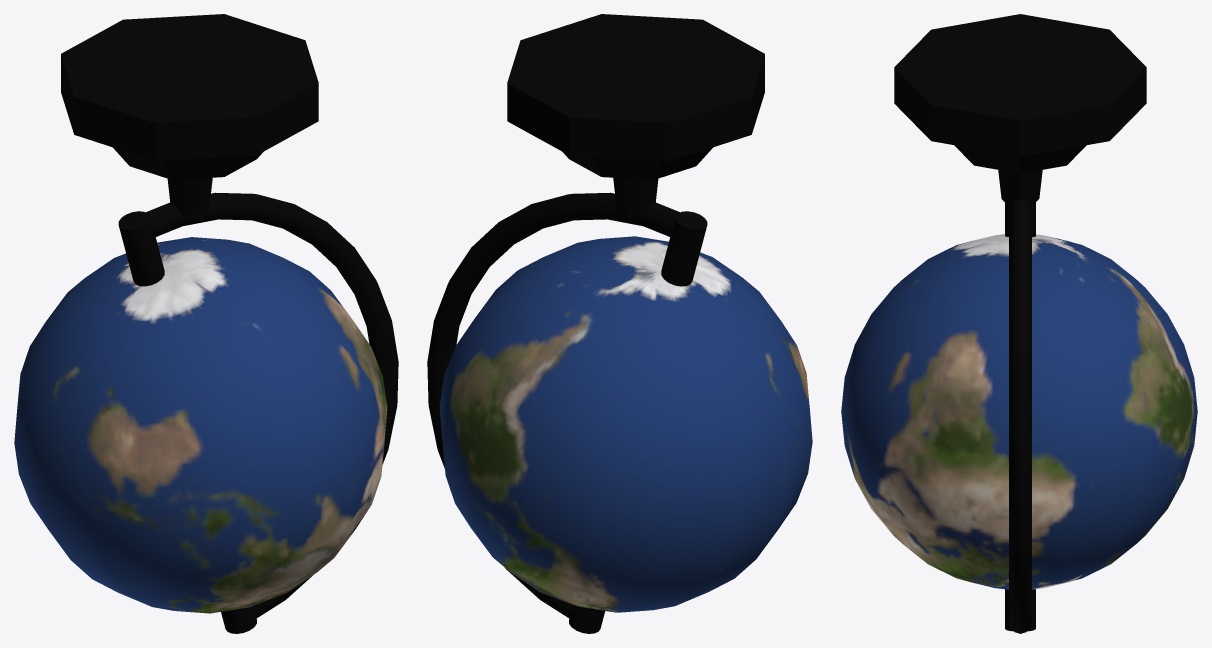
Rendered from Globe.fbx.
The picture shows the model from 3 angles, left to right: view 1: azimuth 30°, elevation 25°; view 2: azimuth 150°, elevation 25°; view 3: azimuth 270°, elevation 25°; orthographic projection. The views are drawn at different scales.
Parts seen in each view (by area): view 1: GlobeStand, Globe; view 2: GlobeStand, Globe; view 3: GlobeStand, Globe.
Boxes of the visible parts, x1,y1,x2,y2 form: GlobeStand: [14, 237, 387, 613]; Globe: [61, 14, 398, 633]; GlobeStand: [439, 236, 812, 612]; Globe: [427, 14, 764, 633]; GlobeStand: [841, 234, 1197, 589]; Globe: [894, 14, 1146, 633].
Bounding box in the file's own units: 58.02 × 88.24 × 52.66.
